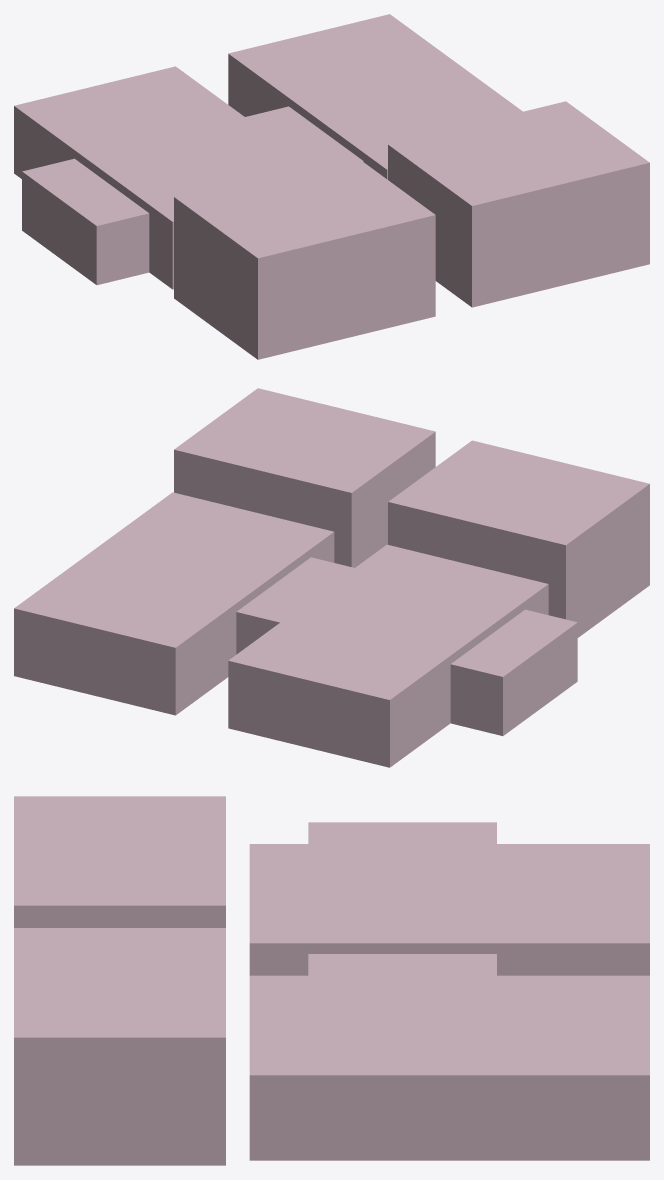
File: gants_travail.glb
3 views of the same model, one above another, from view 1: azimuth 30°, elevation 25°; view 2: azimuth 150°, elevation 25°; view 3: azimuth 270°, elevation 25° (orthographic). The views are drawn at different scales.
Parts seen in each view (by area): view 1: cuir; view 2: cuir; view 3: cuir.
Boxes of the visible parts, x1,y1,x2,y2 form: cuir: (14, 14, 649, 359); cuir: (14, 388, 649, 767); cuir: (14, 796, 649, 1165).
Size of the model in its own units: 0.27 by 0.06 by 0.27.
